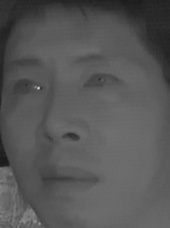eye: (80, 71, 124, 92), (11, 76, 47, 99)
mouth: (39, 160, 102, 196)
